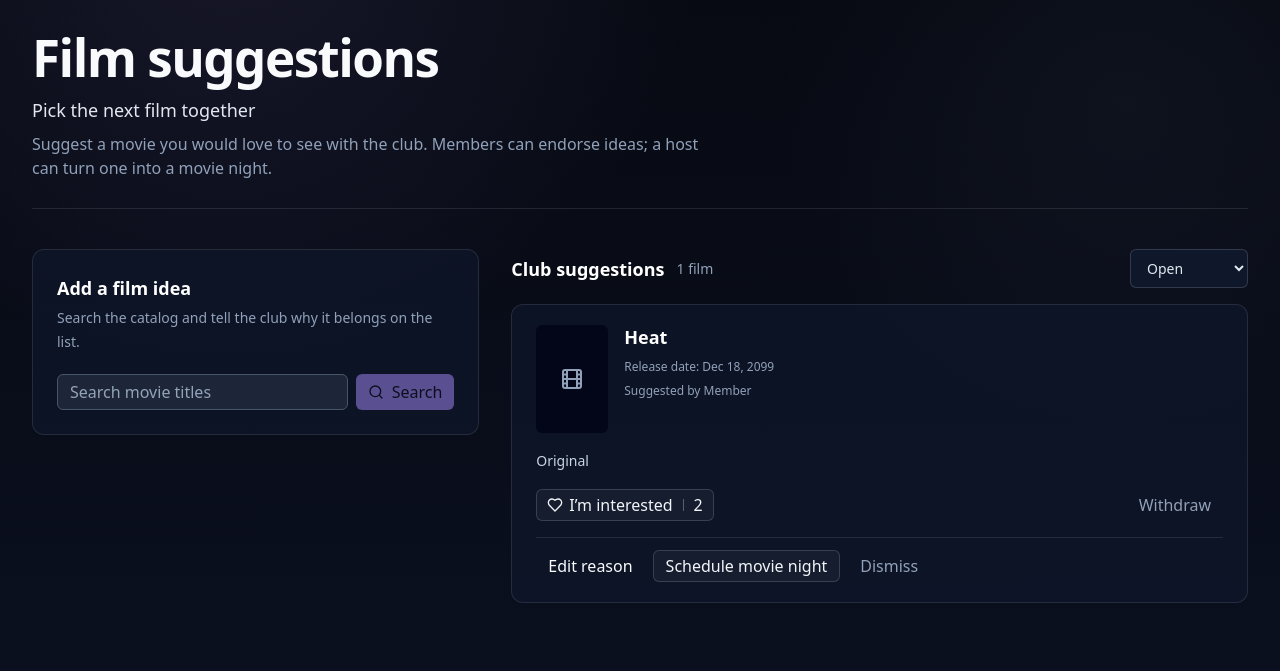
release-aware suggestion scheduling › preserves custom scheduling dates when closing and reopening the form
Click the button "Schedule movie night".
click(746, 566)  # box x1=653 y1=550 x2=840 y2=582
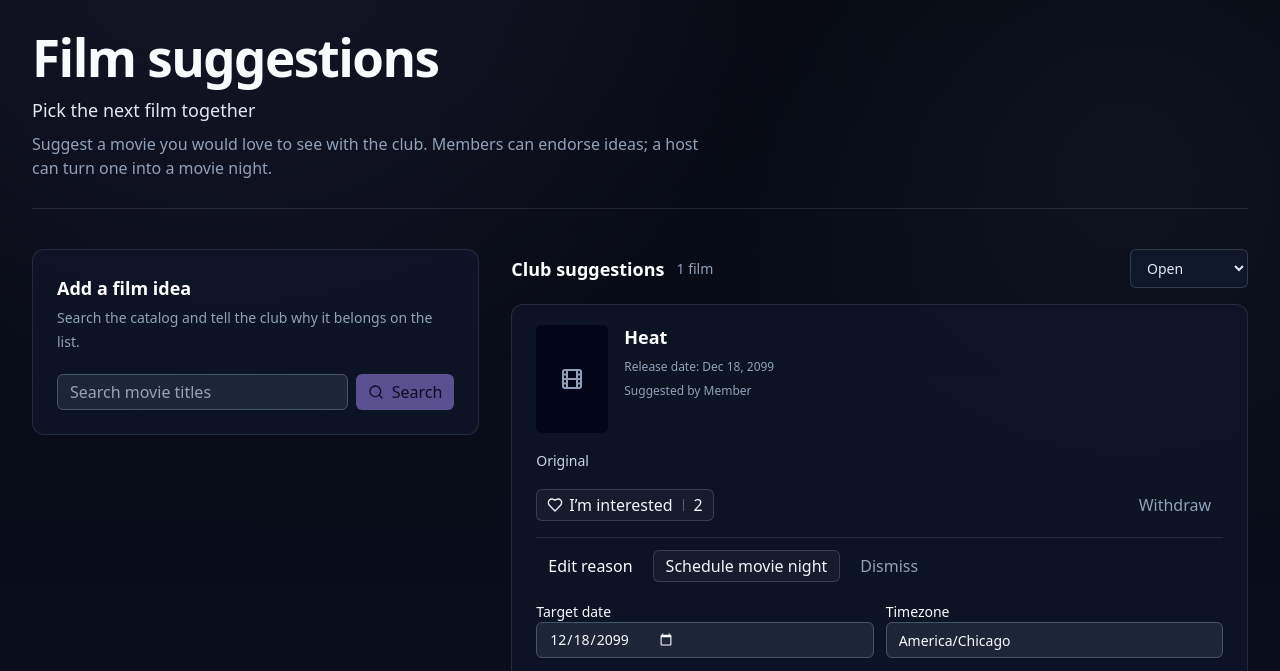
Type "2099-12-22" into the date field labelled "Target date".
click(705, 640); type("2099-12-22")  # box x1=536 y1=622 x2=874 y2=658
(page scrolled)
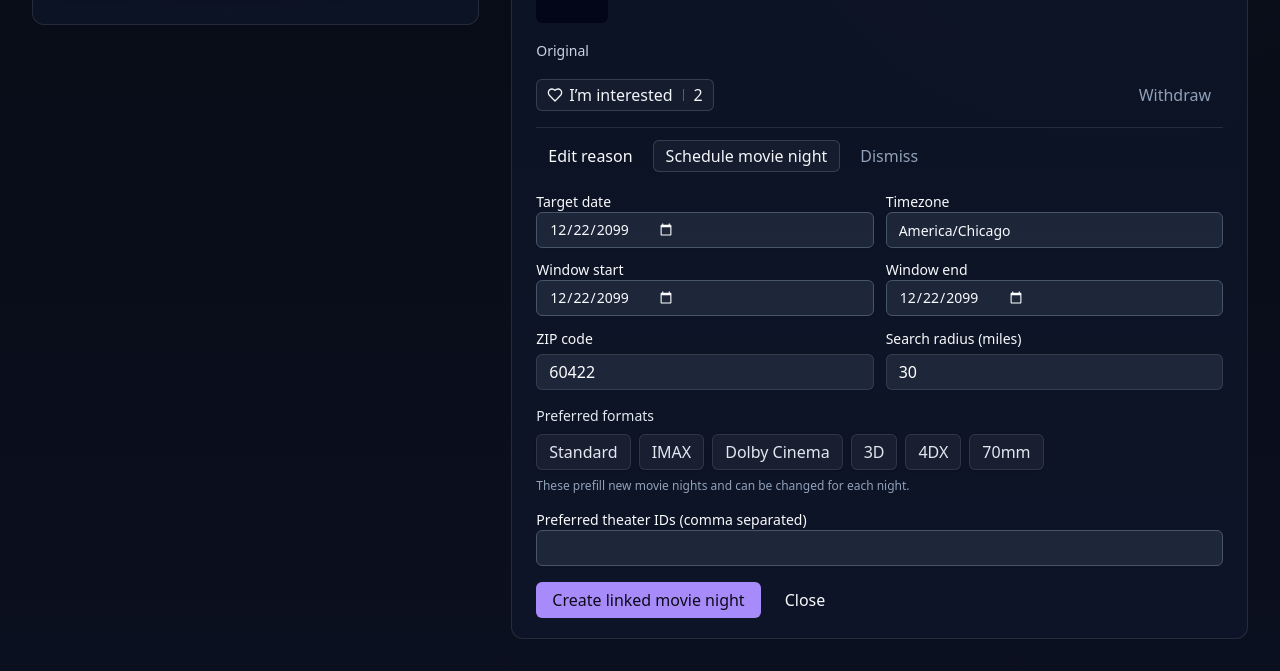
Click the button "Close".
click(805, 600)  # box x1=769 y1=582 x2=841 y2=618
(page scrolled)
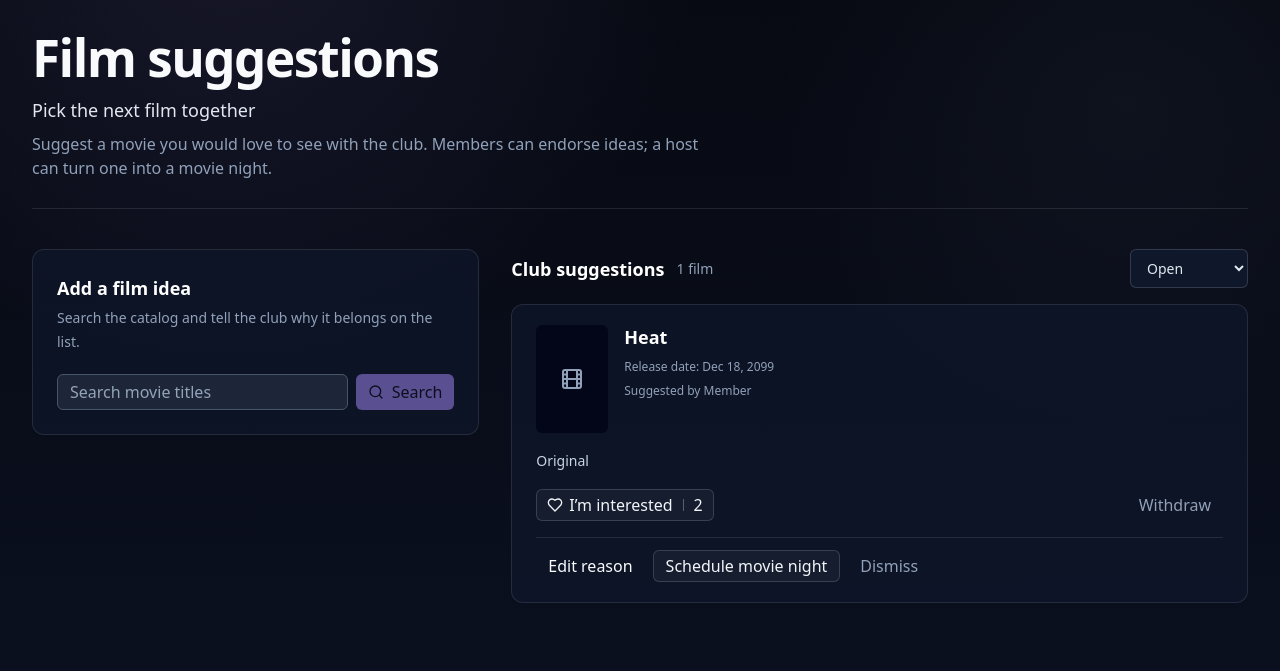
Click the button "Schedule movie night".
click(746, 566)  # box x1=653 y1=550 x2=840 y2=582
(page scrolled)
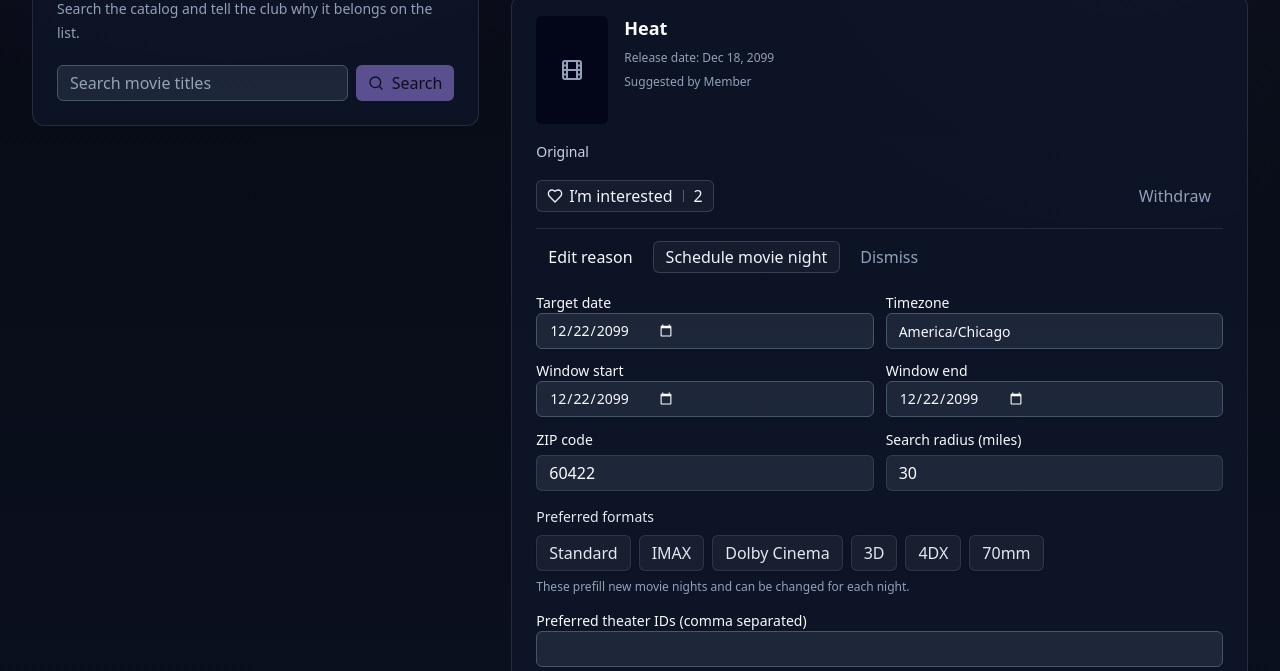
Now the date field labelled "Target date" holds "2099-12-22", box x1=536 y1=313 x2=874 y2=349
Now the date field labelled "Window start" holds "2099-12-22", box x1=536 y1=381 x2=874 y2=417
Now the date field labelled "Window end" holds "2099-12-22", box x1=886 y1=381 x2=1223 y2=417
